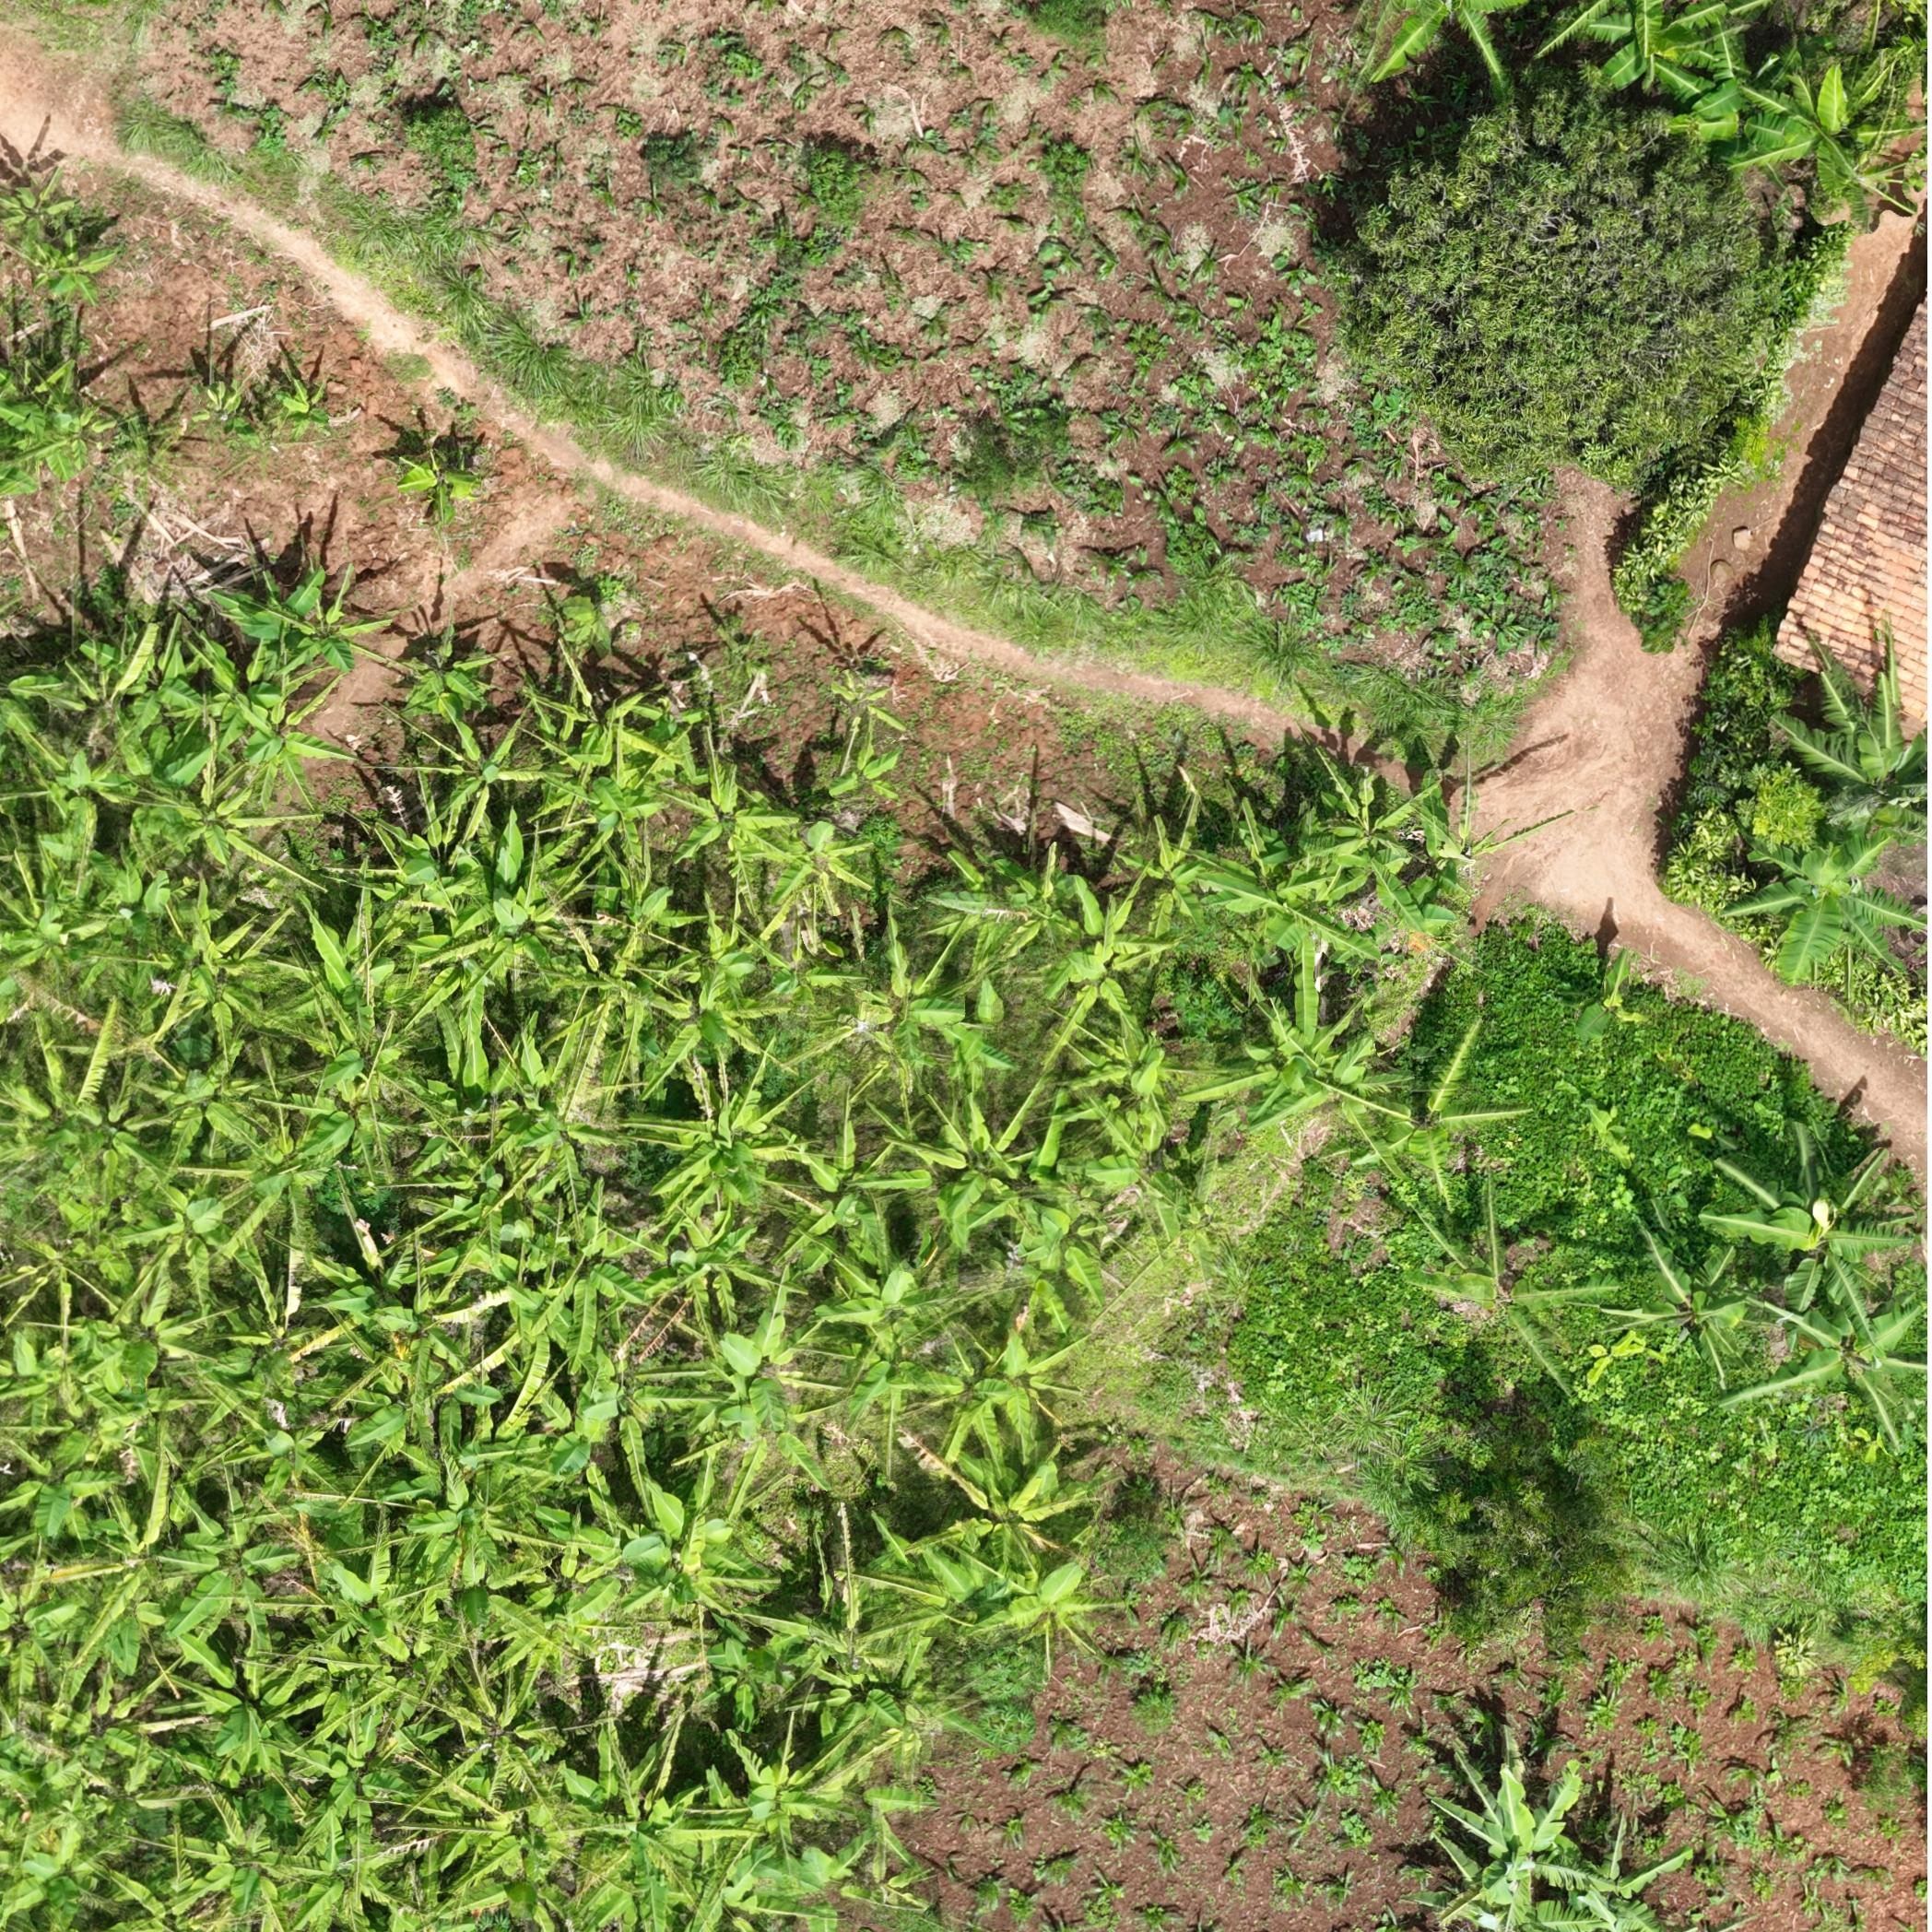Banana: (1330, 998, 1537, 1207), (1700, 1125, 1916, 1325), (1417, 1178, 1612, 1398), (625, 1023, 810, 1244), (1433, 1718, 1621, 1930), (1727, 1254, 1923, 1453), (1775, 630, 1927, 865), (674, 1274, 851, 1451), (708, 1691, 874, 1877), (364, 688, 561, 842), (1737, 821, 1921, 980), (902, 1424, 1099, 1568), (230, 1053, 363, 1249), (157, 1484, 301, 1658), (915, 1083, 1051, 1237), (968, 1539, 1129, 1667), (1631, 1221, 1759, 1380), (1307, 741, 1422, 911), (757, 796, 888, 925), (380, 586, 494, 734), (237, 672, 336, 814), (278, 559, 379, 678), (393, 423, 490, 531), (258, 363, 341, 444), (42, 228, 120, 313), (193, 368, 260, 453)
